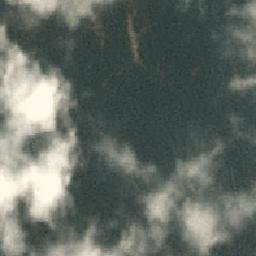cloud: (1, 41, 89, 256), (102, 138, 252, 246), (224, 2, 256, 90), (4, 1, 111, 27)
debris: (125, 15, 145, 62)
